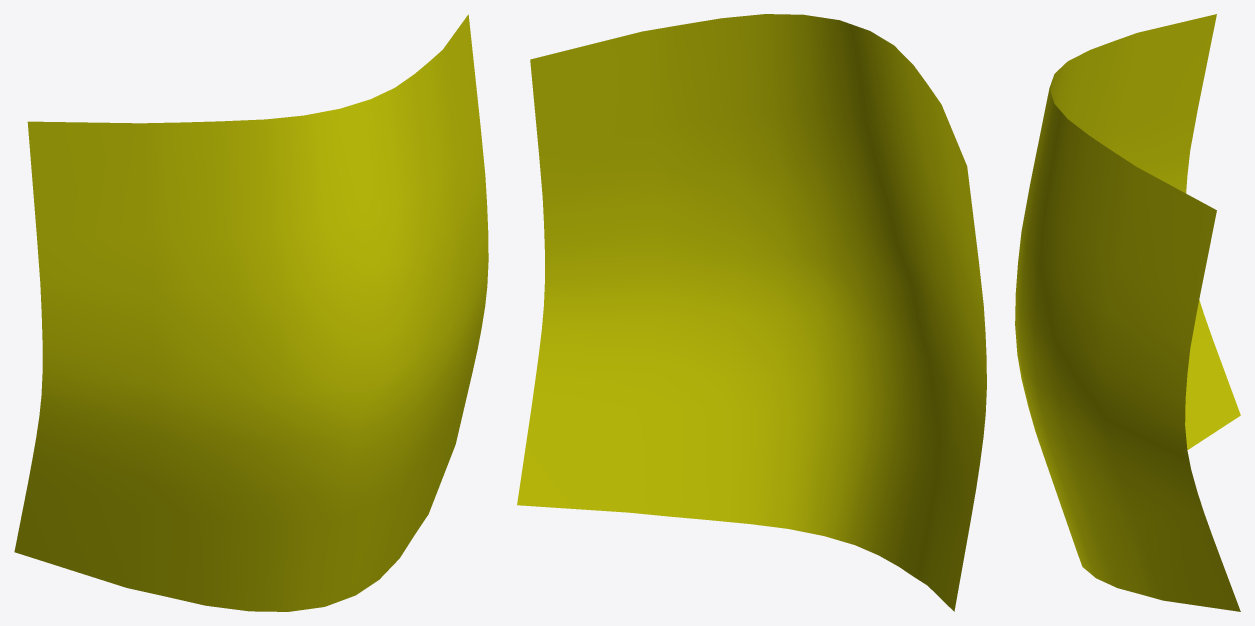
Rendered from Mask_0.glb.
3 views of the same model, side by side, from view 1: azimuth 30°, elevation 25°; view 2: azimuth 150°, elevation 25°; view 3: azimuth 270°, elevation 25° (orthographic). The views are drawn at different scales.
Bounding box in the file's own units: 91.85 × 100 × 44.16.
